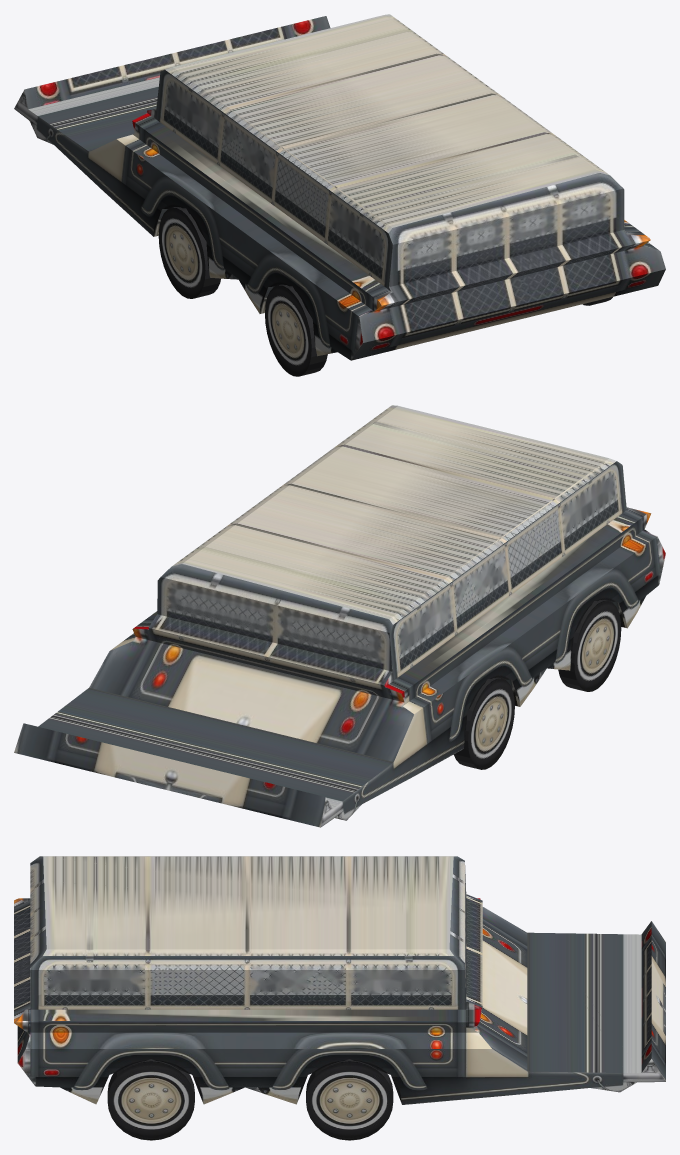
File: utility_trailer.glb
3 renders of one model, top to bottom at view 1: azimuth 30°, elevation 25°; view 2: azimuth 150°, elevation 25°; view 3: azimuth 270°, elevation 25°, orthographic. The views are drawn at different scales.
Parts seen in each view (by area): view 1: utility_trailer, wheel_BL, wheel_FL; view 2: utility_trailer, wheel_BL, wheel_FL; view 3: utility_trailer, wheel_FR, wheel_BR.
Boxes of the visible parts, x1,y1,x2,y2 form: utility_trailer: [14, 14, 665, 360]; wheel_BL: [265, 284, 327, 376]; wheel_FL: [158, 207, 220, 298]; utility_trailer: [14, 405, 665, 827]; wheel_BL: [558, 599, 621, 691]; wheel_FL: [453, 677, 514, 769]; utility_trailer: [14, 856, 665, 1104]; wheel_FR: [306, 1059, 393, 1140]; wheel_BR: [107, 1059, 194, 1140].
Size of the model in its own units: 1.79 by 0.9916 by 3.5.
Materials: 3 (1 with a texture image).
